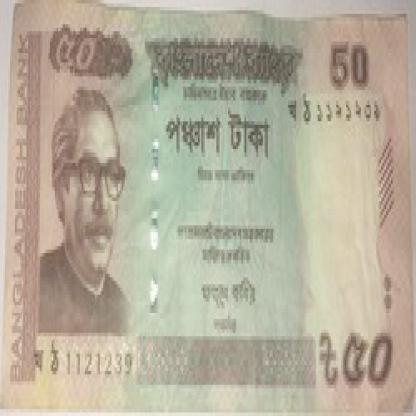Fifty taka: (316, 315, 410, 398), (50, 28, 98, 76)
